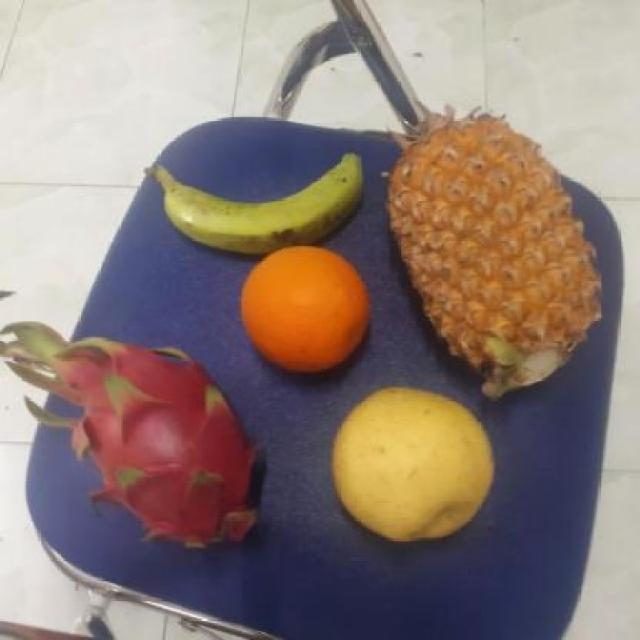banana: (168, 148, 374, 257)
dragon fruit: (64, 344, 278, 550)
pear: (336, 386, 504, 543)
pineapple: (390, 116, 602, 396)
sugar apple: (236, 244, 375, 374)
